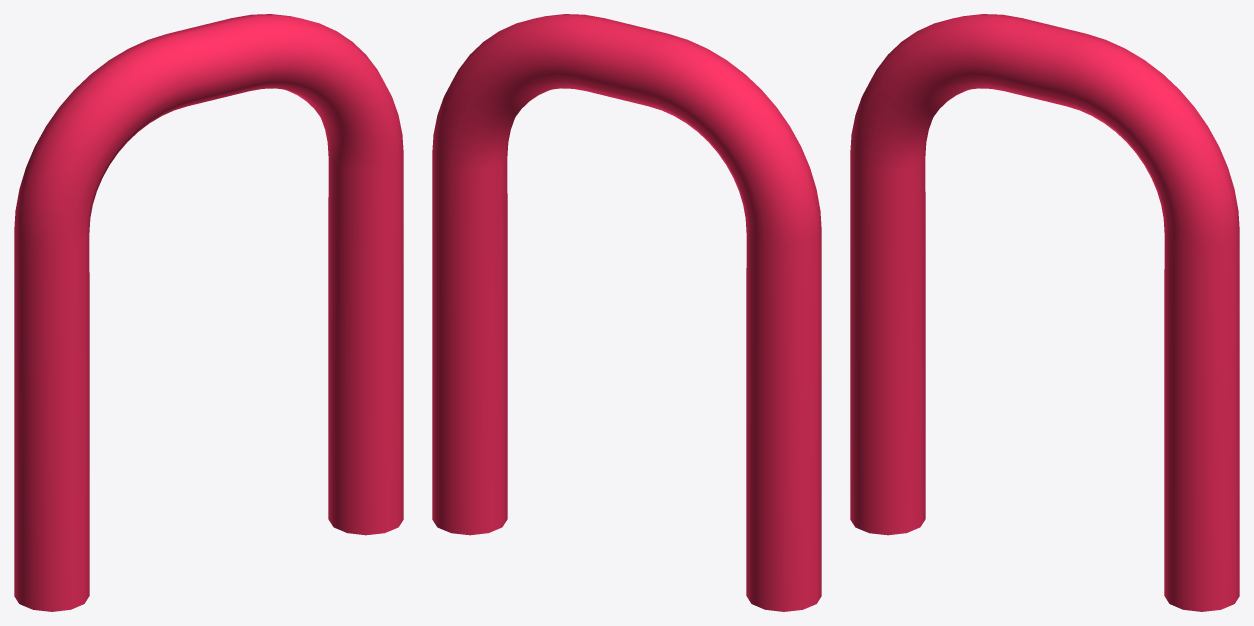
Rendered from gateLarge_teamRed-col.glb.
3 views of the same model, side by side, from view 1: azimuth 30°, elevation 25°; view 2: azimuth 150°, elevation 25°; view 3: azimuth 330°, elevation 25° (orthographic).
Parts seen in each view (by area): view 1: gateLarge_teamRed-col; view 2: gateLarge_teamRed-col; view 3: gateLarge_teamRed-col.
Part boxes in pixels (x1,y1,x2,y2): gateLarge_teamRed-col: (14,14,403,611); gateLarge_teamRed-col: (432,14,821,611); gateLarge_teamRed-col: (850,14,1239,611).
Size of the model in its own units: 2.4 by 3.2 by 0.4126.
